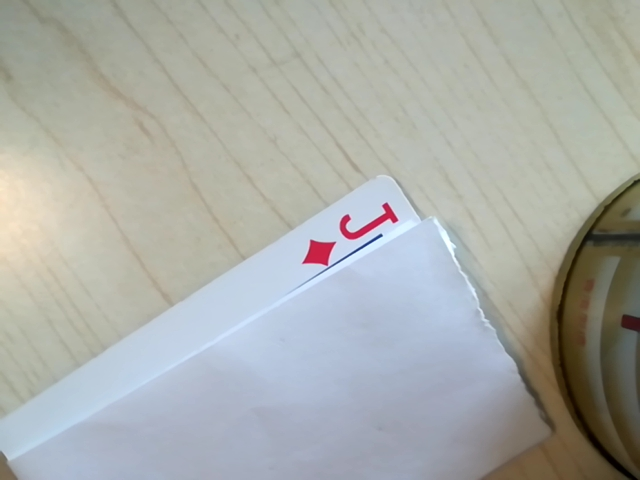fk j: (295, 201, 404, 268)
